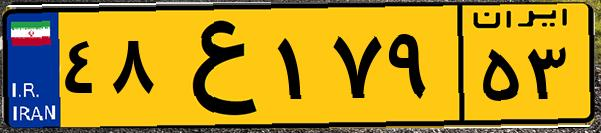1: (270, 28, 330, 110)
3: (525, 38, 570, 115)
4: (57, 26, 110, 100)
5: (475, 38, 525, 113)
7: (330, 28, 385, 110)
8: (110, 28, 158, 98)
9: (385, 28, 445, 110)
ع: (158, 12, 270, 120)
